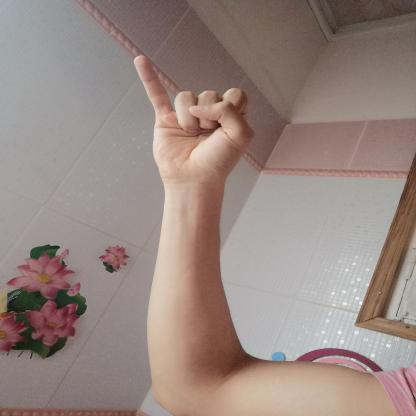MEEM: (111, 48, 269, 195)
